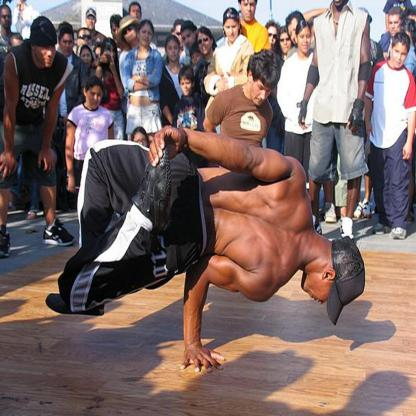face: (304, 281, 342, 306), (35, 33, 56, 68), (254, 75, 272, 107), (87, 88, 103, 110), (393, 47, 408, 69), (134, 134, 149, 156), (298, 31, 312, 54), (289, 23, 302, 47), (198, 33, 212, 55), (225, 20, 239, 42), (243, 1, 257, 22), (123, 23, 137, 44), (140, 25, 153, 46), (62, 35, 75, 56), (390, 15, 402, 37), (1, 8, 13, 29), (181, 75, 193, 96), (168, 41, 180, 62), (183, 31, 197, 49), (176, 26, 187, 48), (80, 31, 92, 50), (281, 35, 293, 54), (105, 45, 116, 64), (268, 29, 278, 49), (81, 51, 92, 69), (132, 6, 142, 22), (113, 27, 122, 43), (87, 14, 96, 29)
